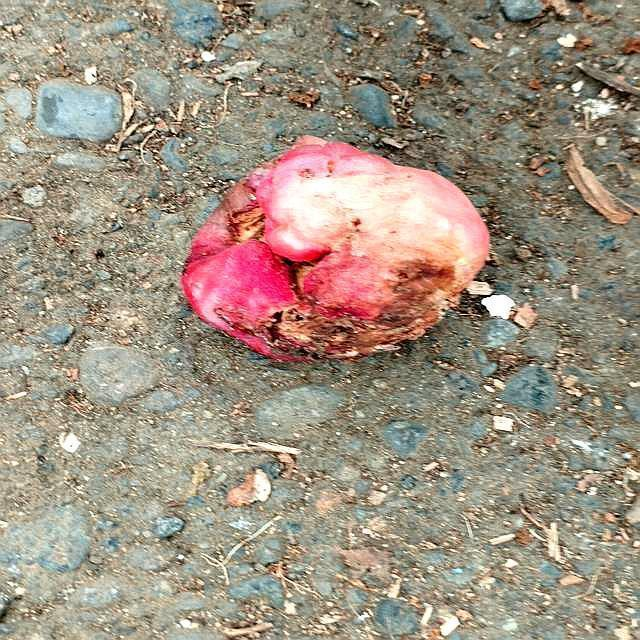Biodegradable: (181, 141, 495, 367)
